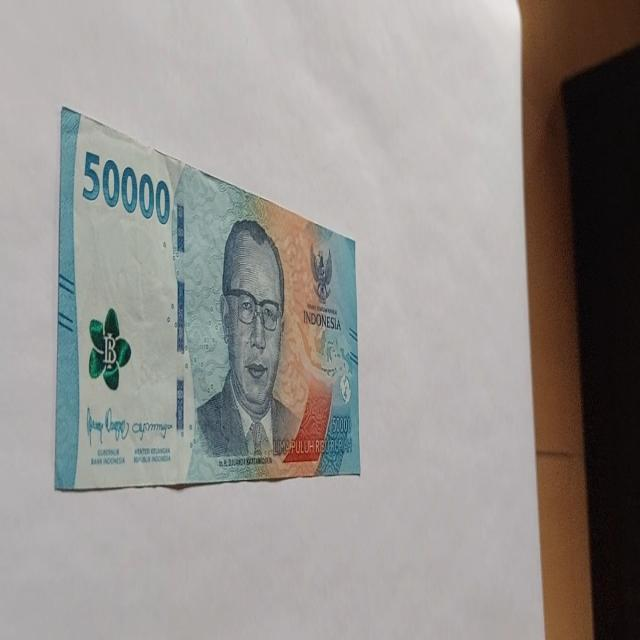lima puluh ribu rupiah: (54, 106, 360, 492), (185, 216, 332, 483), (80, 147, 172, 225)
